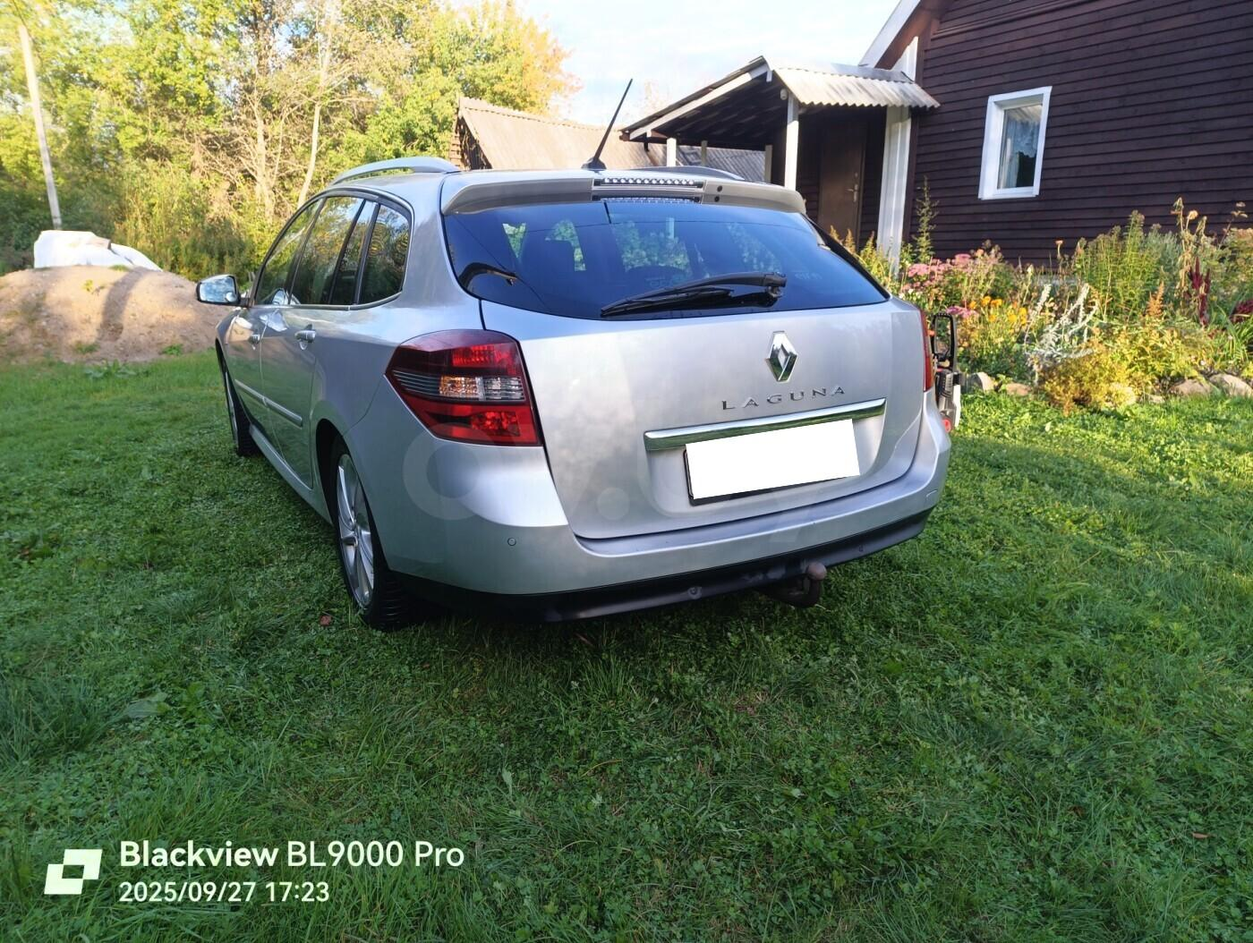Laguna_2010-2015: (203, 146, 956, 637)
